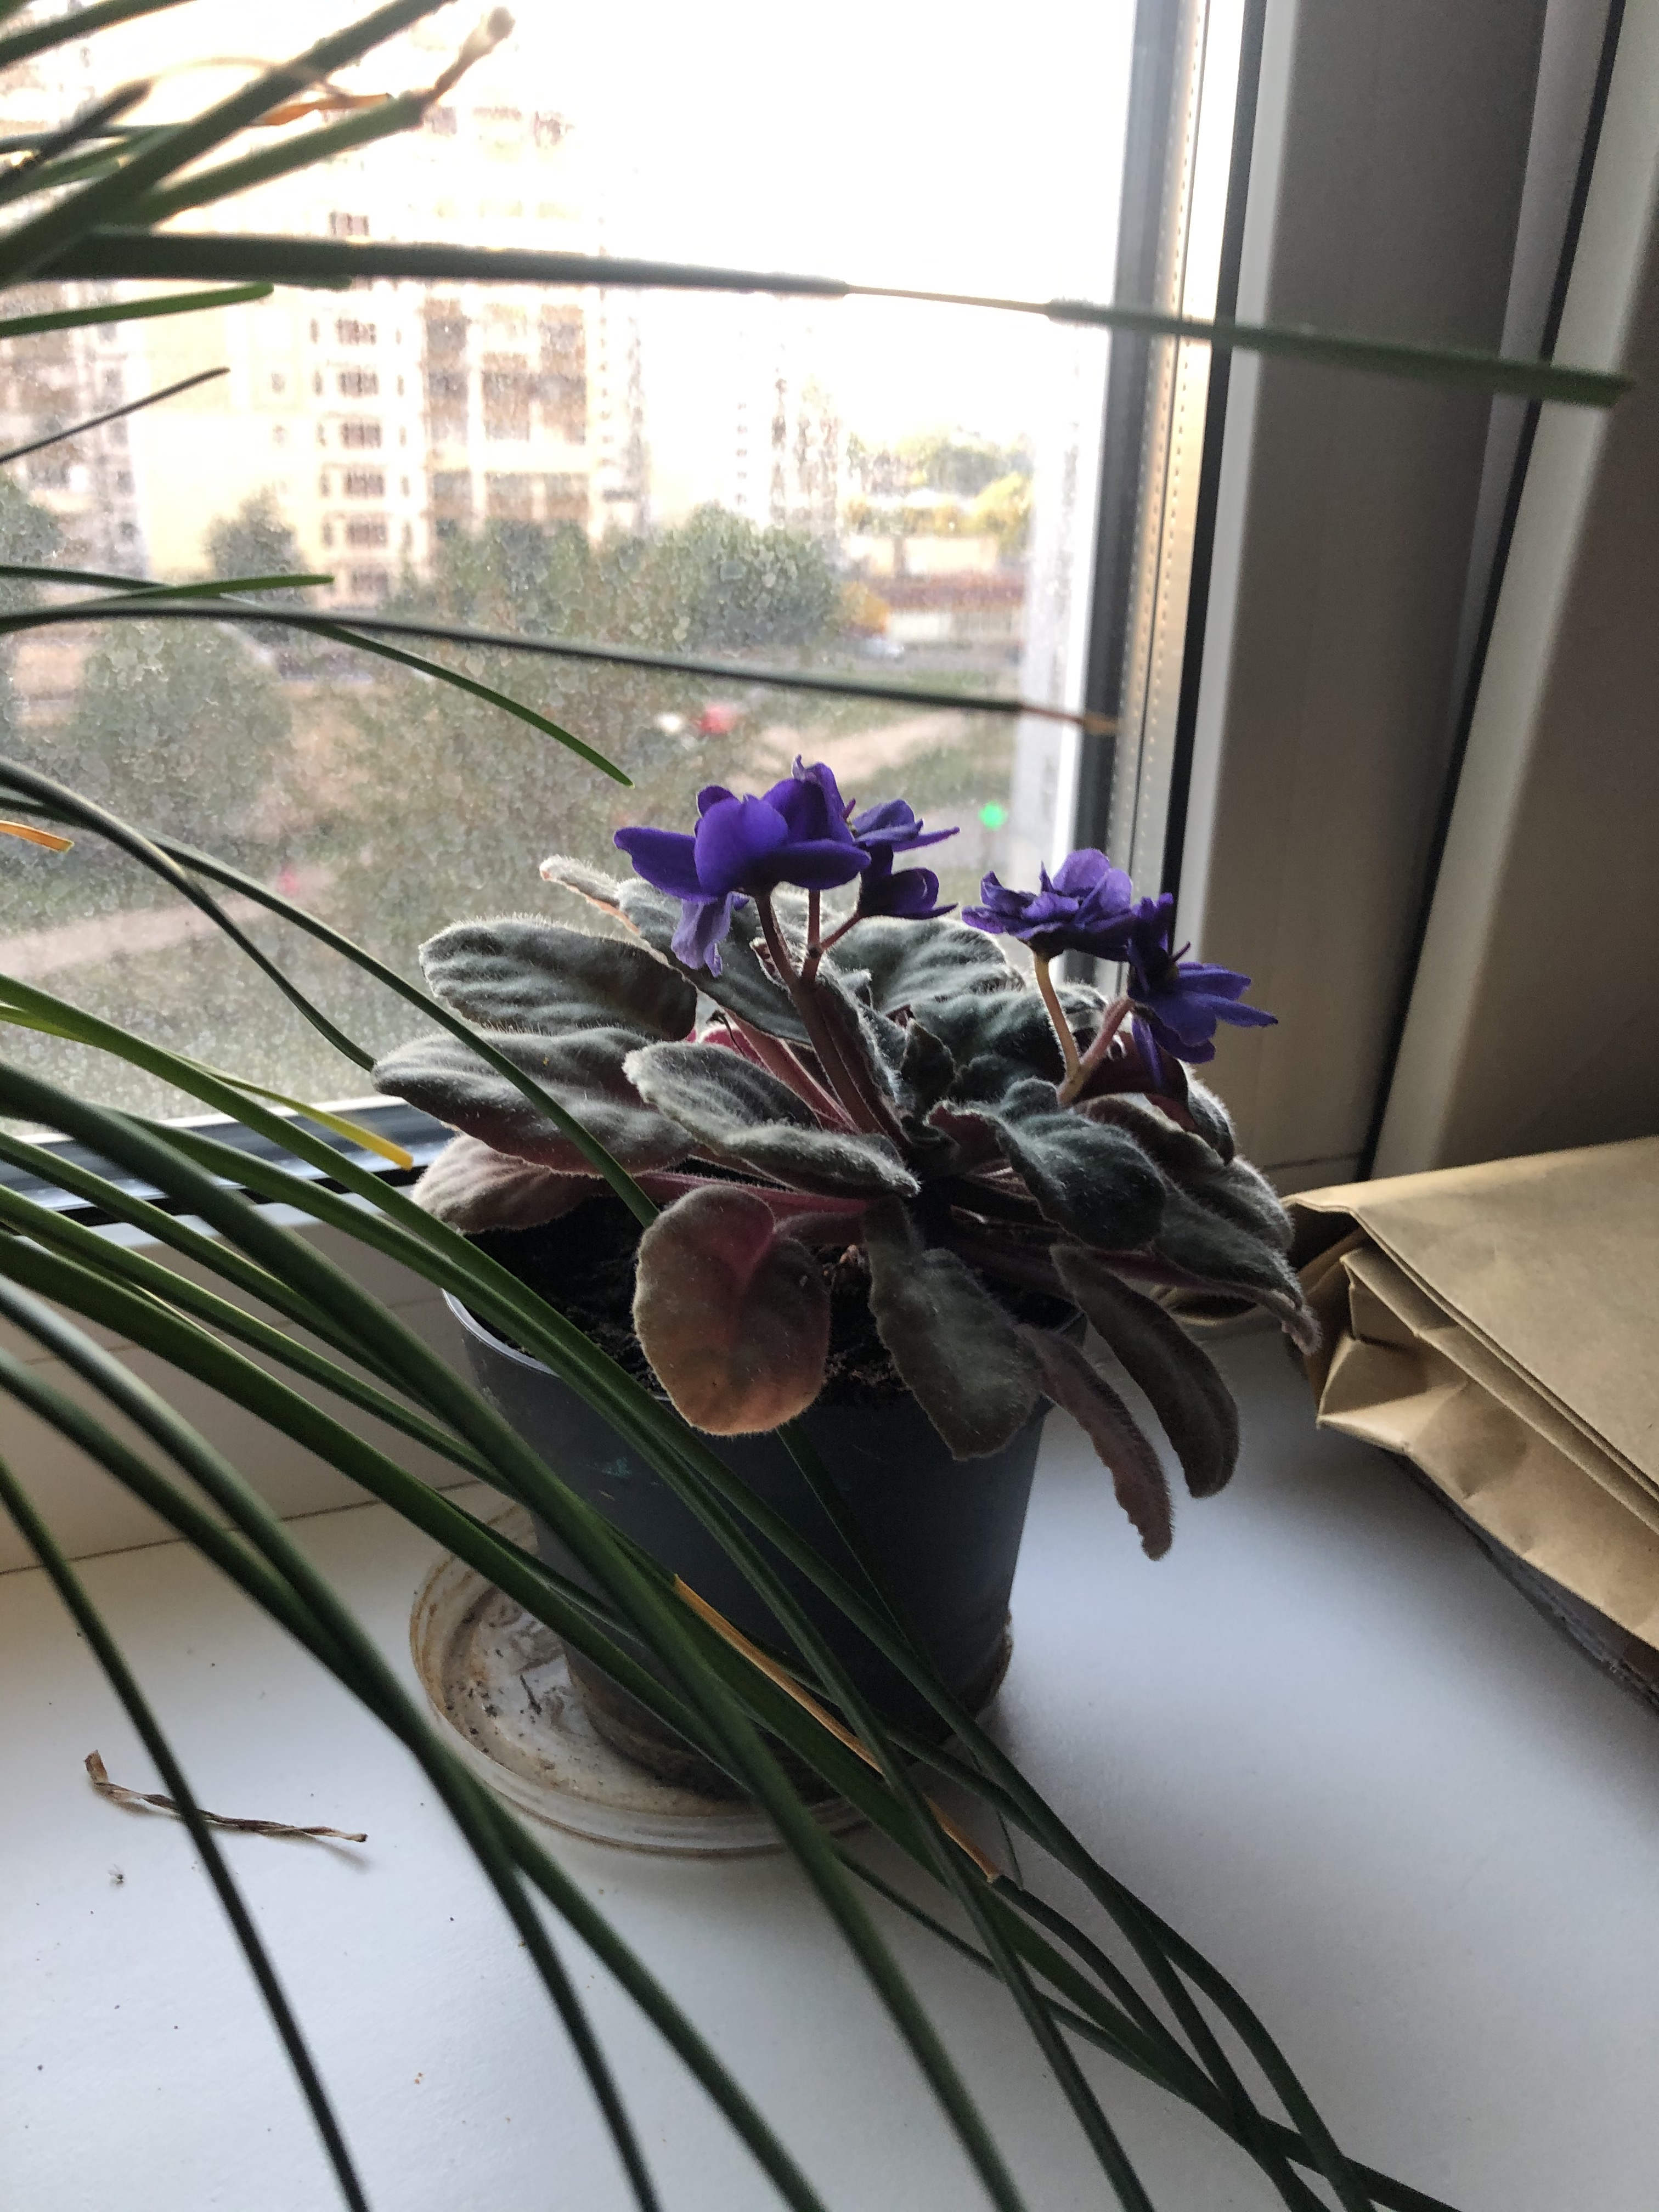ignore: (347, 752, 1337, 1587)
